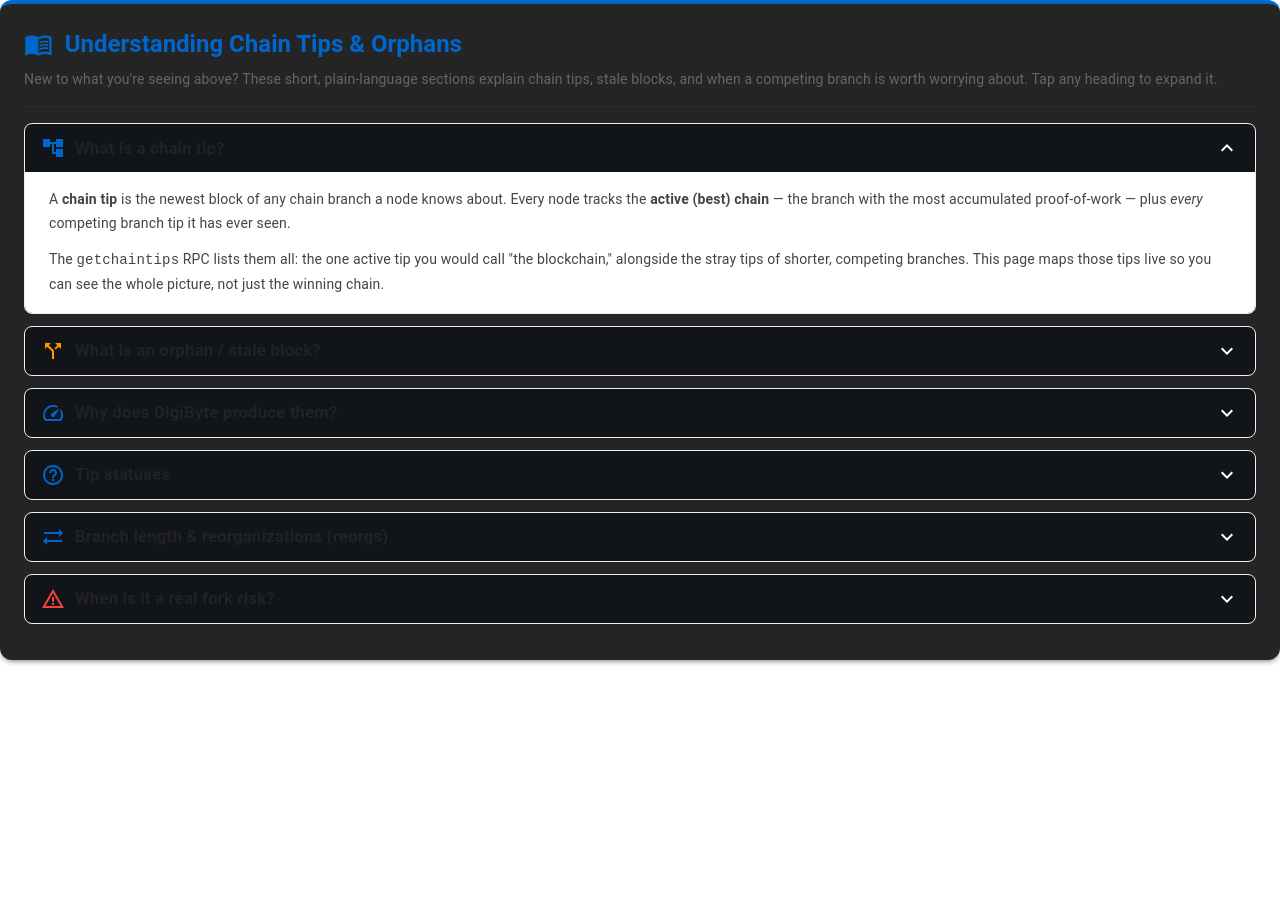
Test case: ChainTipsExplainer › expanding a collapsed accordion reveals its body text
Click the button "What is an orphan / stale block?" at (198, 350), box [25, 327, 1255, 375]
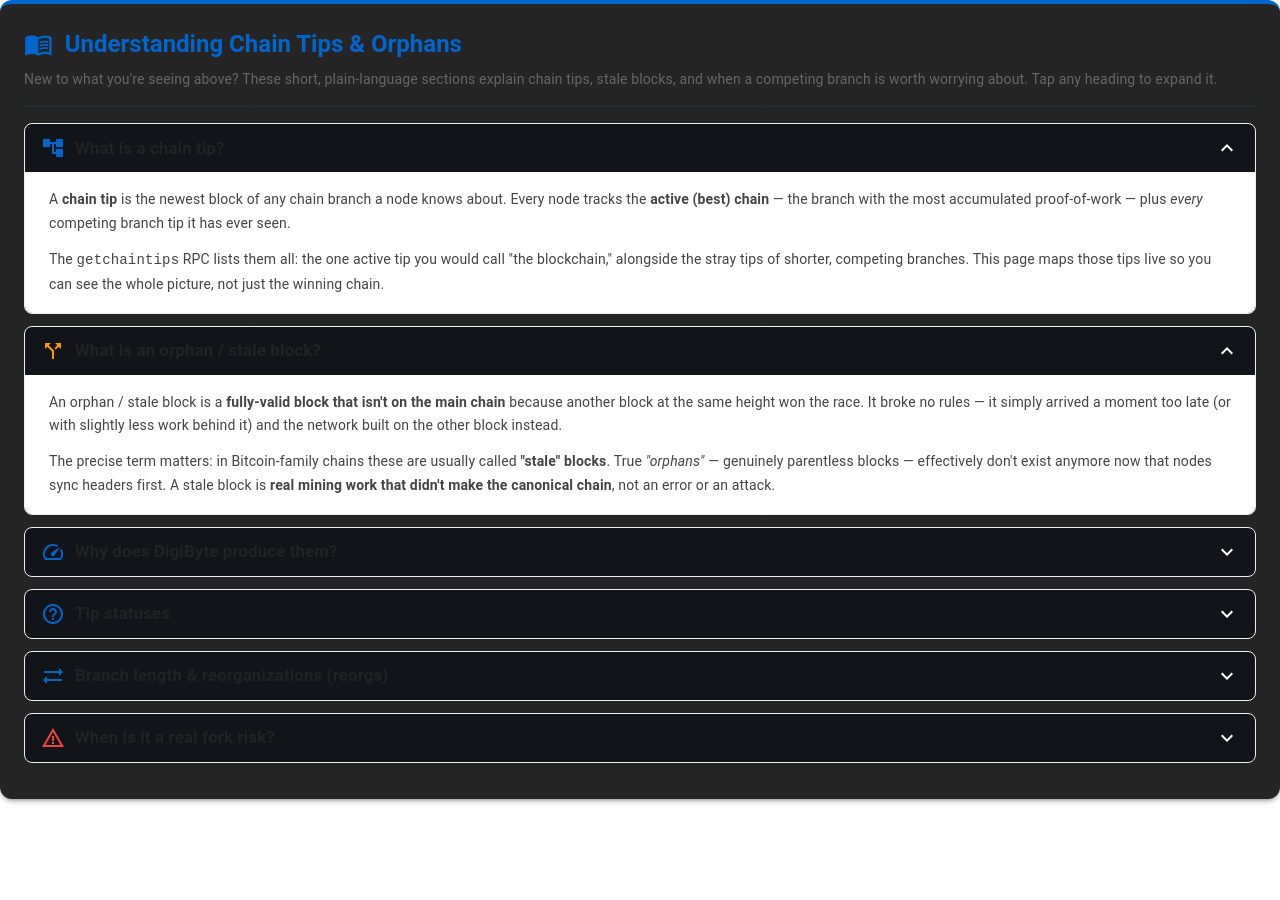
Expected: the element with test id "topic-body-1" is shown, [25, 375, 1255, 514]
Expected: the text "real mining work that didn't make the canonical chain" is shown, [270, 477, 612, 493]
